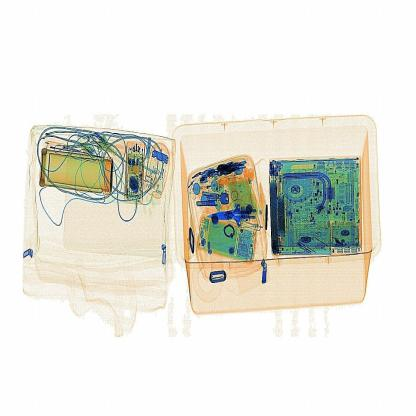gun: (208, 190, 271, 232)
